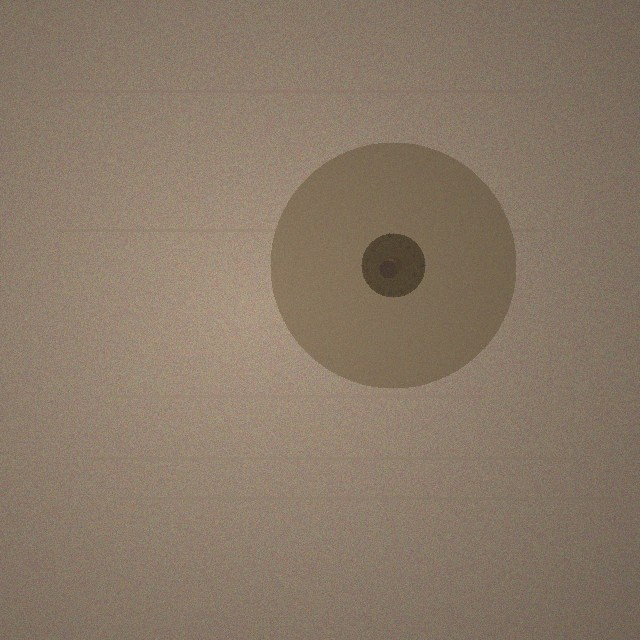cold_weld: (270, 142, 516, 388)
